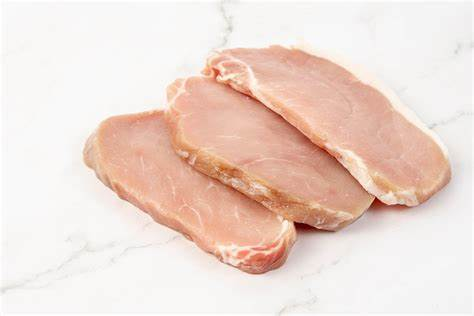Pork: (195, 40, 464, 211), (74, 104, 296, 277), (155, 72, 383, 234)
